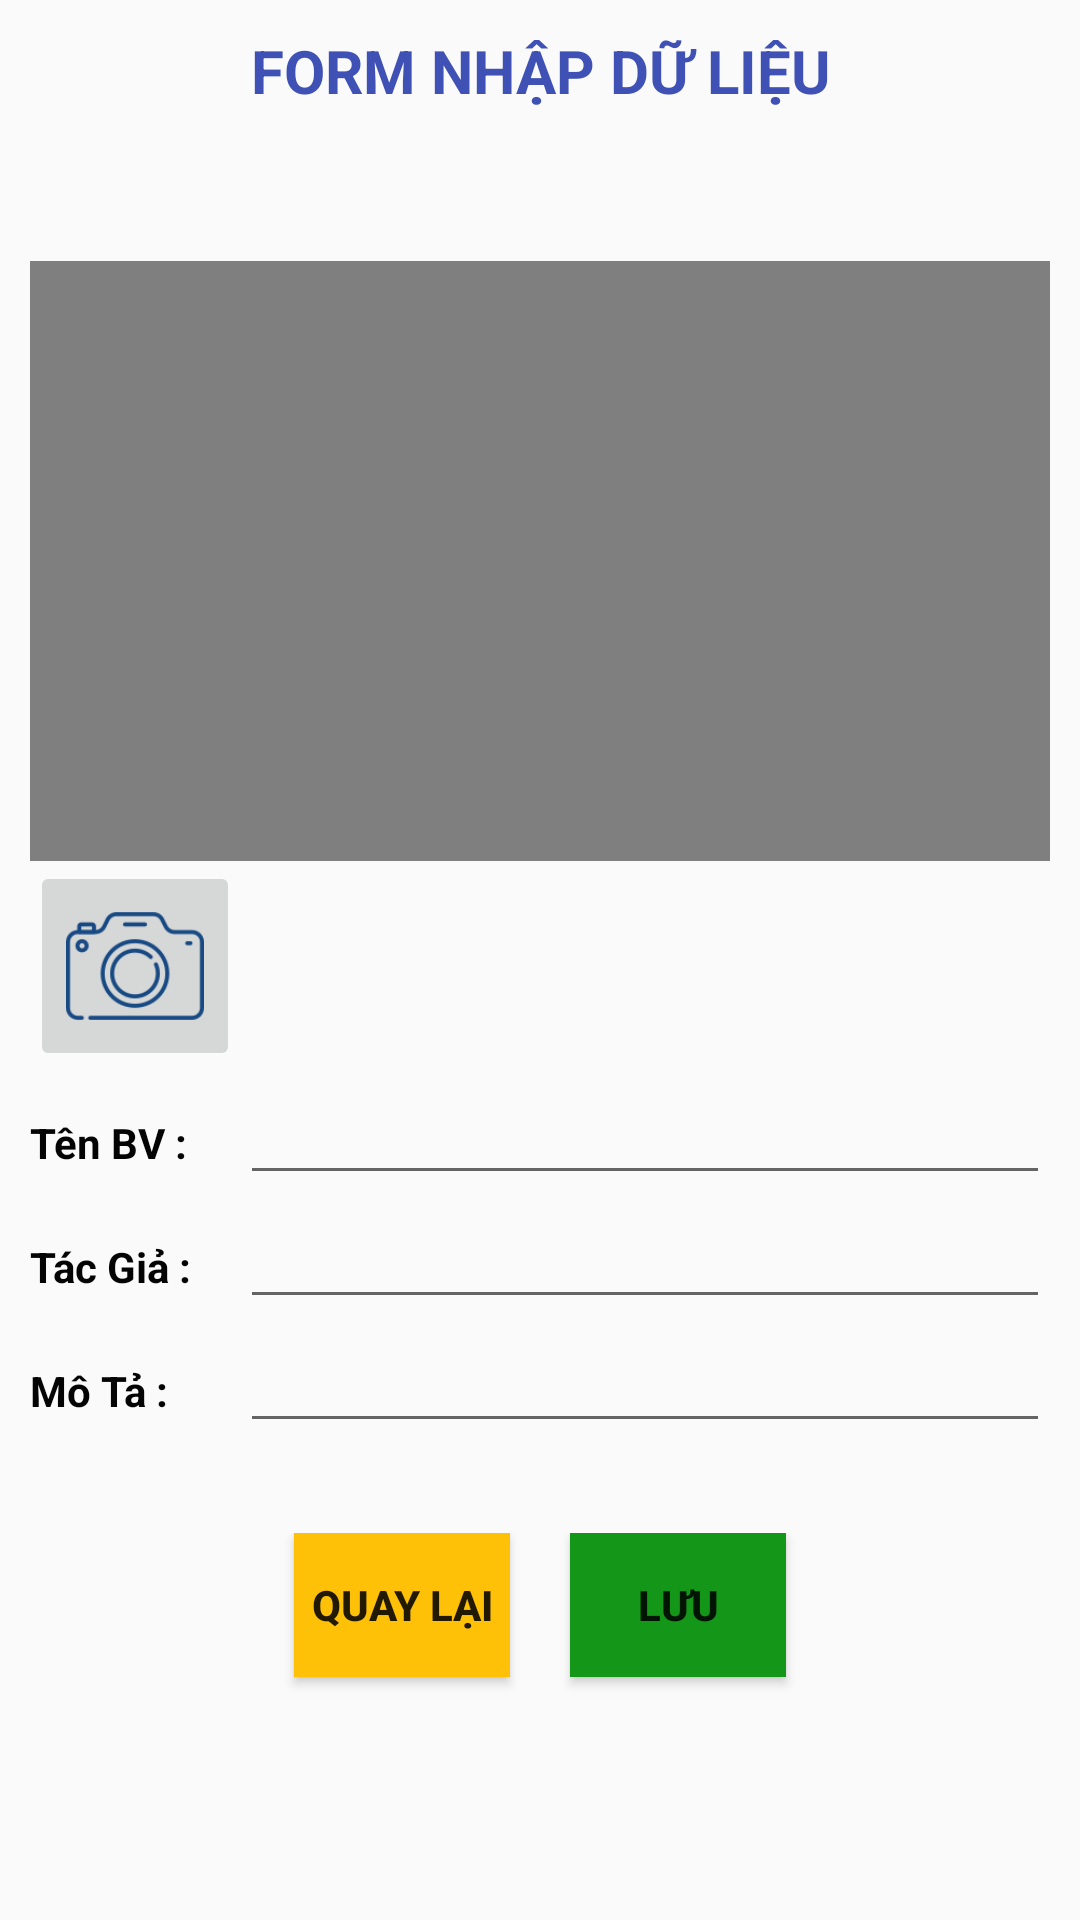

Named icons in this screenshot (1080x1920) and their bounding boxes, [x1, y1, x2, y2]:
camera: [42, 879, 228, 1053]
